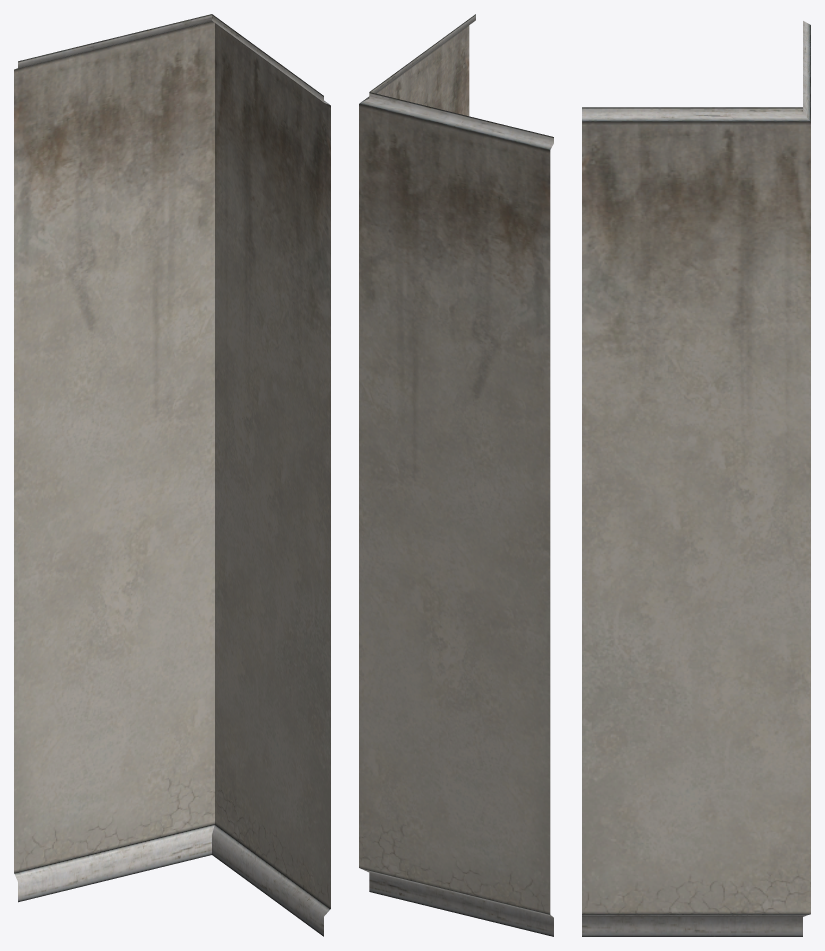
Rendered from livingroom_damaged_concave_short.dae.
The picture shows the model from 3 angles, left to right: view 1: azimuth 30°, elevation 25°; view 2: azimuth 150°, elevation 25°; view 3: azimuth 270°, elevation 25°; orthographic projection. The views are drawn at different scales.
Parts seen in each view (by area): view 1: polySurface13; view 2: polySurface13; view 3: polySurface13.
Boxes of the visible parts, bbox=[...] form: polySurface13: bbox=[14, 14, 330, 936]; polySurface13: bbox=[359, 14, 553, 936]; polySurface13: bbox=[582, 21, 810, 936].
Size of the model in its own units: 1 by 4 by 1.
